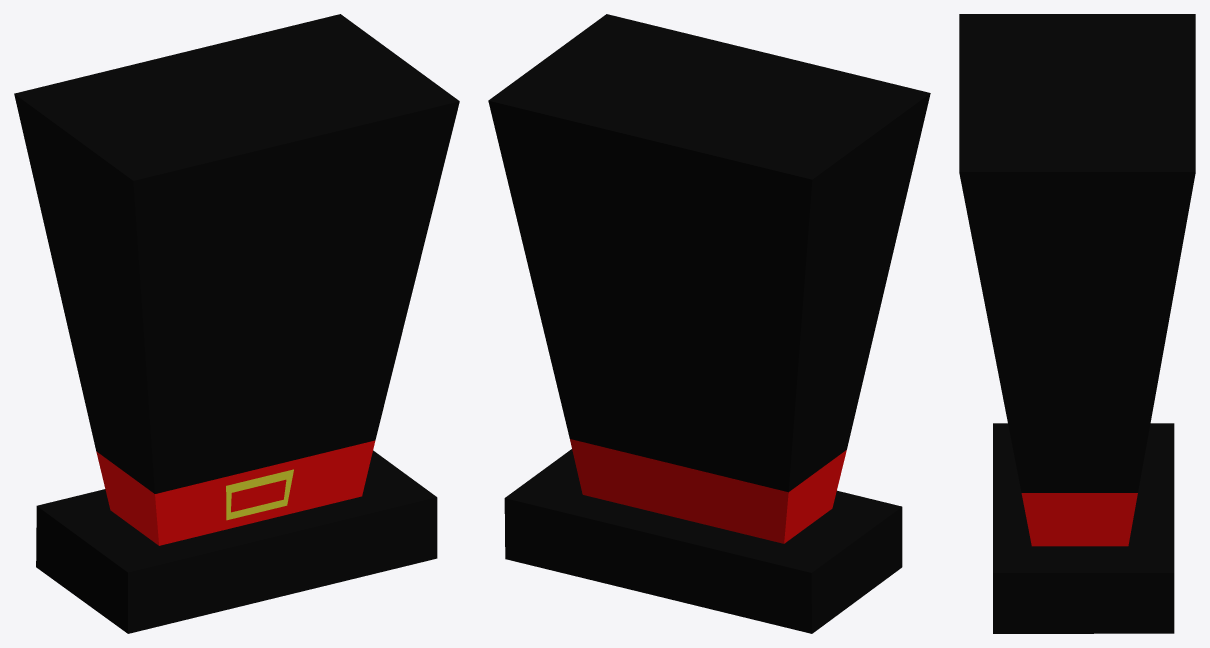
File: Columna Sombrero.fbx
The picture shows the model from 3 angles, left to right: view 1: azimuth 30°, elevation 25°; view 2: azimuth 150°, elevation 25°; view 3: azimuth 270°, elevation 25°; orthographic projection.
Parts seen in each view (by area): view 1: Box014; view 2: Box014; view 3: Box014.
Part boxes in pixels (x1=…): Box014: x1=14, y1=14, x2=459, y2=633; Box014: x1=488, y1=14, x2=930, y2=633; Box014: x1=959, y1=14, x2=1195, y2=633.
Size of the model in its own units: 191 by 262 by 121.
